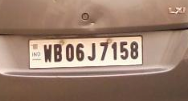numberplate: (27, 34, 143, 67)
